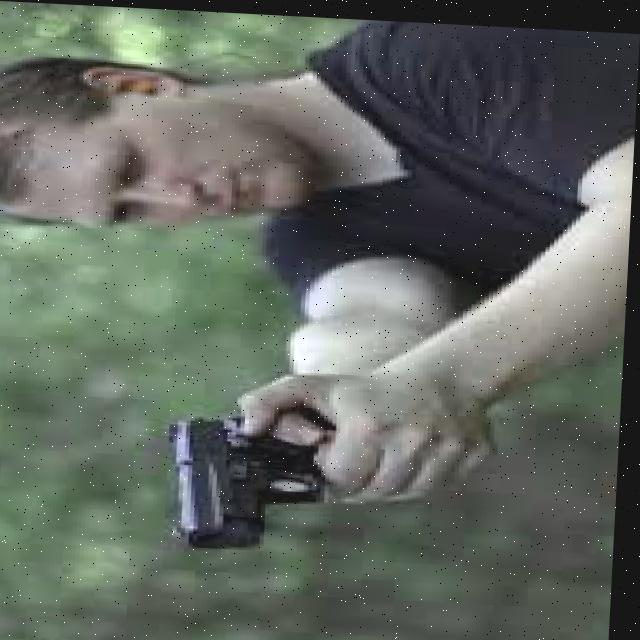pistol: (166, 413, 331, 550)
